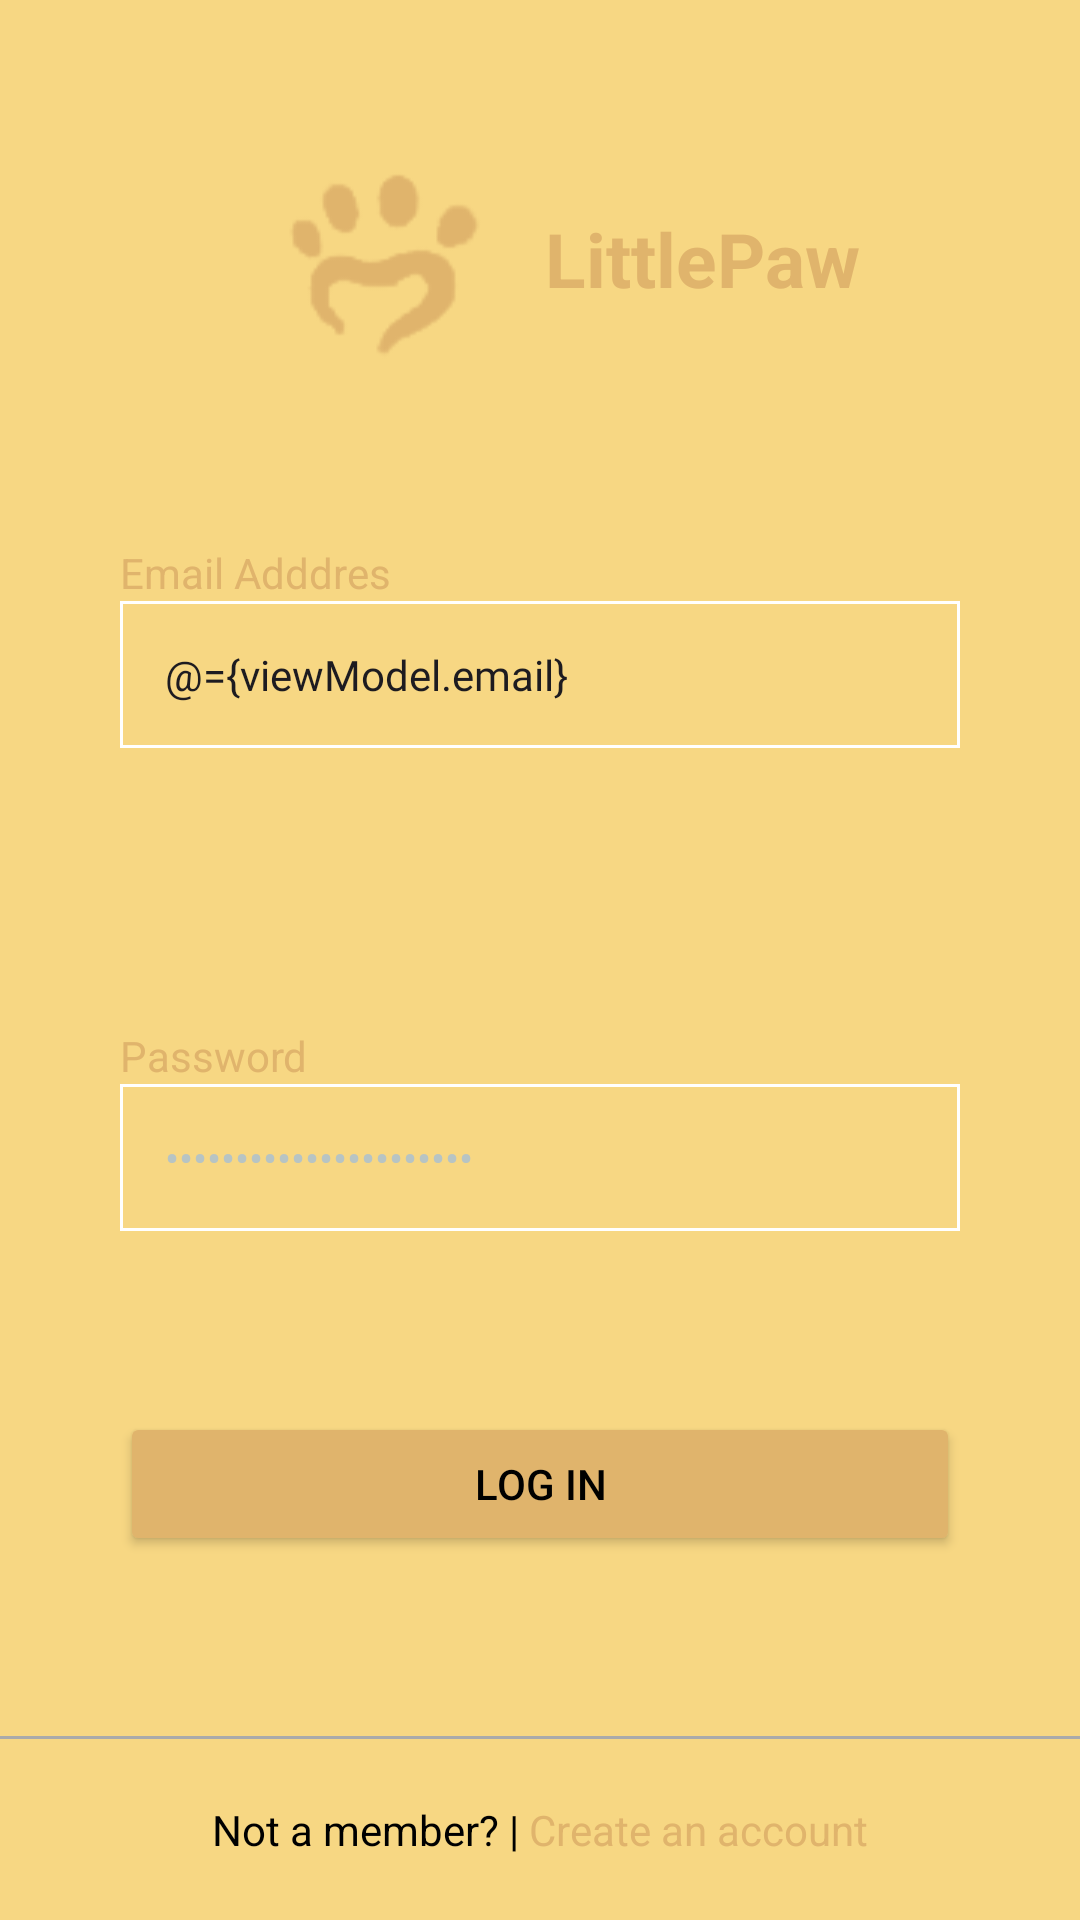

Point at icon controls on the screen. Image size 1080px×1920px, points as (x=x, y=y).
paw: (x=384, y=264)
